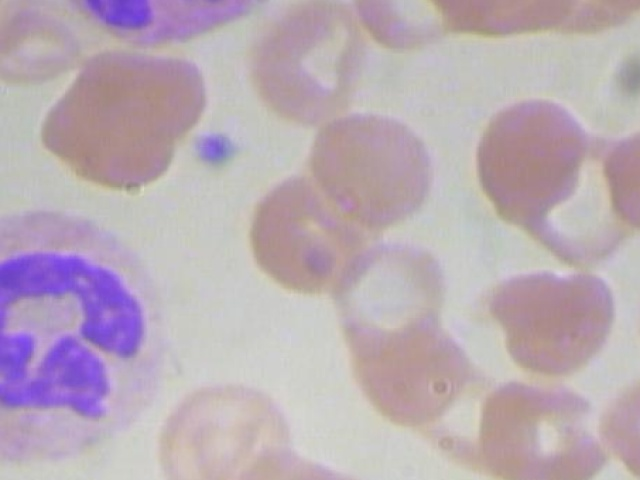Platelets: (184, 127, 244, 175)
RBC: (32, 42, 210, 199), (247, 168, 393, 301), (227, 0, 376, 130), (137, 374, 299, 480), (492, 261, 625, 382), (466, 373, 612, 480), (305, 113, 440, 227), (465, 95, 594, 214), (0, 0, 94, 86), (588, 363, 640, 480), (599, 109, 640, 230), (627, 241, 640, 367)
WBC: (0, 206, 181, 477)
